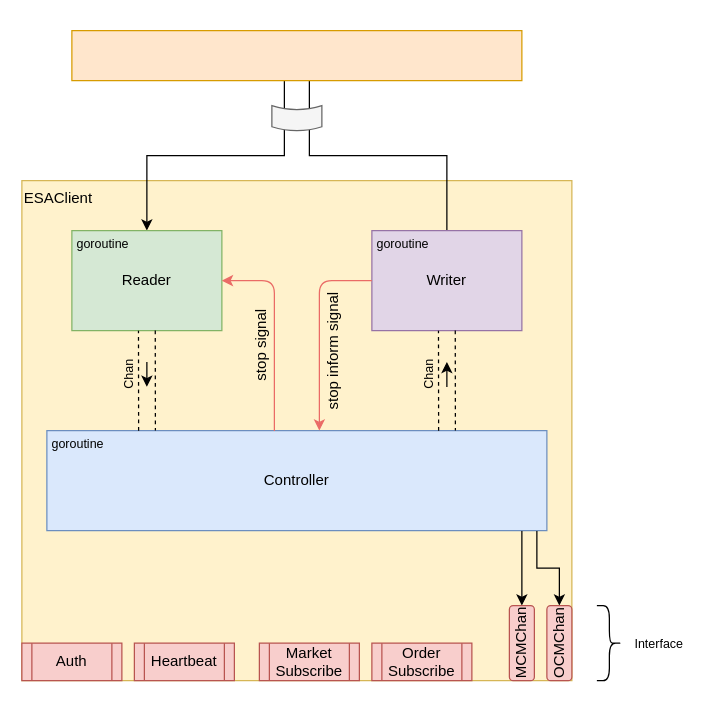
The diagram is 706 pixels wide and 703 high, and some of its shapes have lost their labels. The shapes that lost their labels are listed below. From the top down, each one's centre as x and y in pixels, then its label:
At (296,55): "Betfair Exchange Stream Server".
At (296,117): "TCP".
